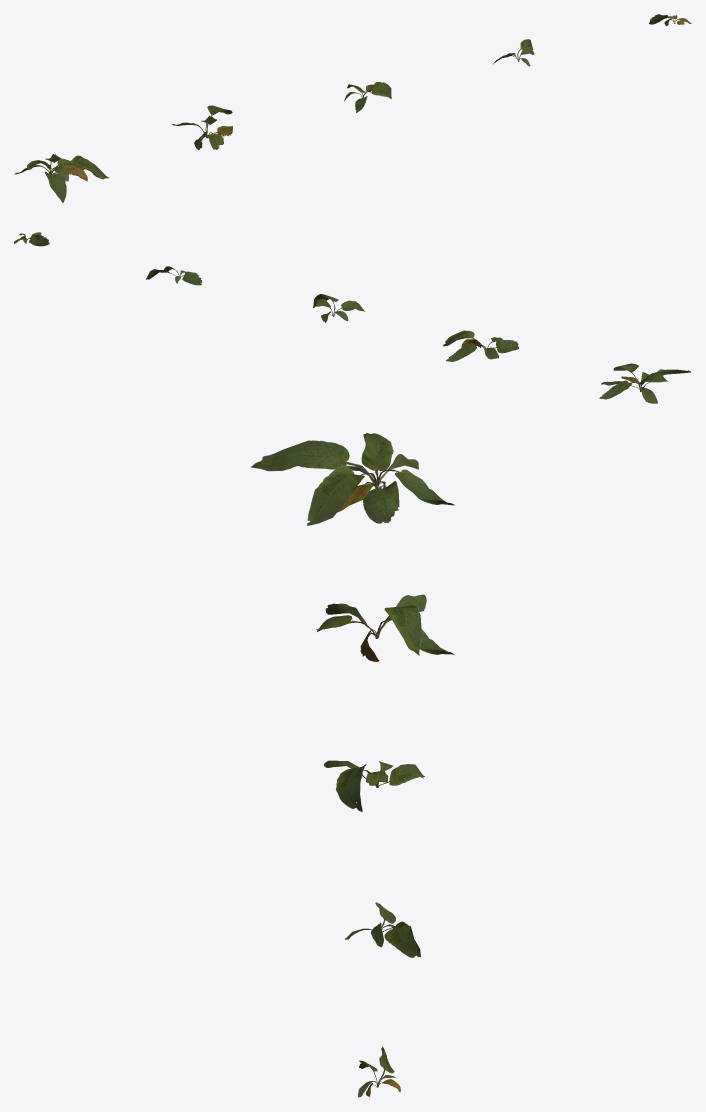
Rendered from mid.glb.
3 renders of one model, top to bottom at view 1: azimuth 30°, elevation 25°; view 2: azimuth 150°, elevation 25°; view 3: azimuth 270°, elevation 25°, orthographic. The views are drawn at different scales.
Visible parts, largest first — view 1: weed_plant_02_a_LOD0, weed_plant_02_c_LOD0; view 2: weed_plant_02_a_LOD0, weed_plant_02_c_LOD0; view 3: weed_plant_02_a_LOD0, weed_plant_02_c_LOD0.
Part boxes in pixels (x1,y1,x2,y2): weed_plant_02_a_LOD0: [14, 14, 691, 202]; weed_plant_02_c_LOD0: [344, 82, 391, 113]; weed_plant_02_a_LOD0: [14, 232, 691, 403]; weed_plant_02_c_LOD0: [313, 294, 364, 322]; weed_plant_02_a_LOD0: [251, 433, 454, 1097]; weed_plant_02_c_LOD0: [324, 760, 424, 811].
Bounding box in the file's own units: 2.13 × 0.075 × 0.2908.
1 material, 1 textured.
